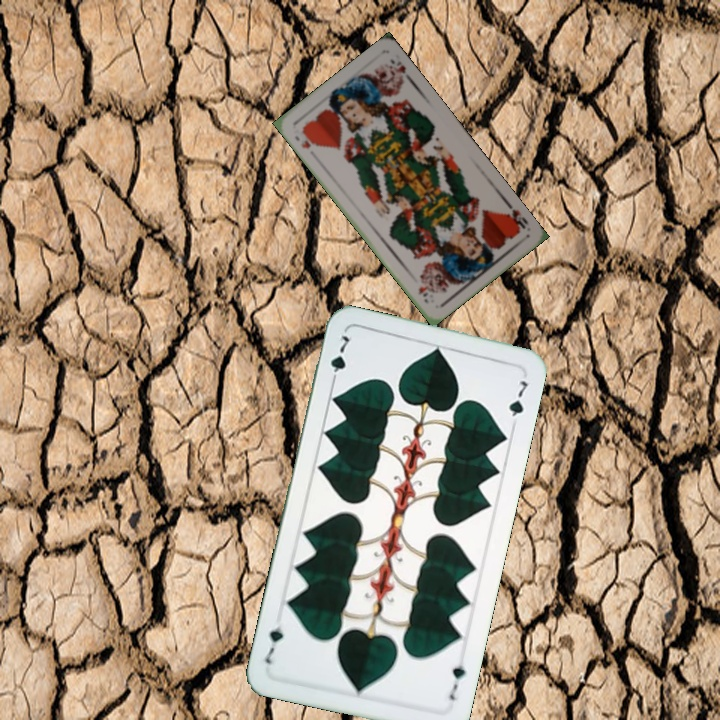G7: (326, 331, 352, 388), (445, 660, 468, 703)
HO: (501, 205, 531, 235), (290, 123, 317, 151)
